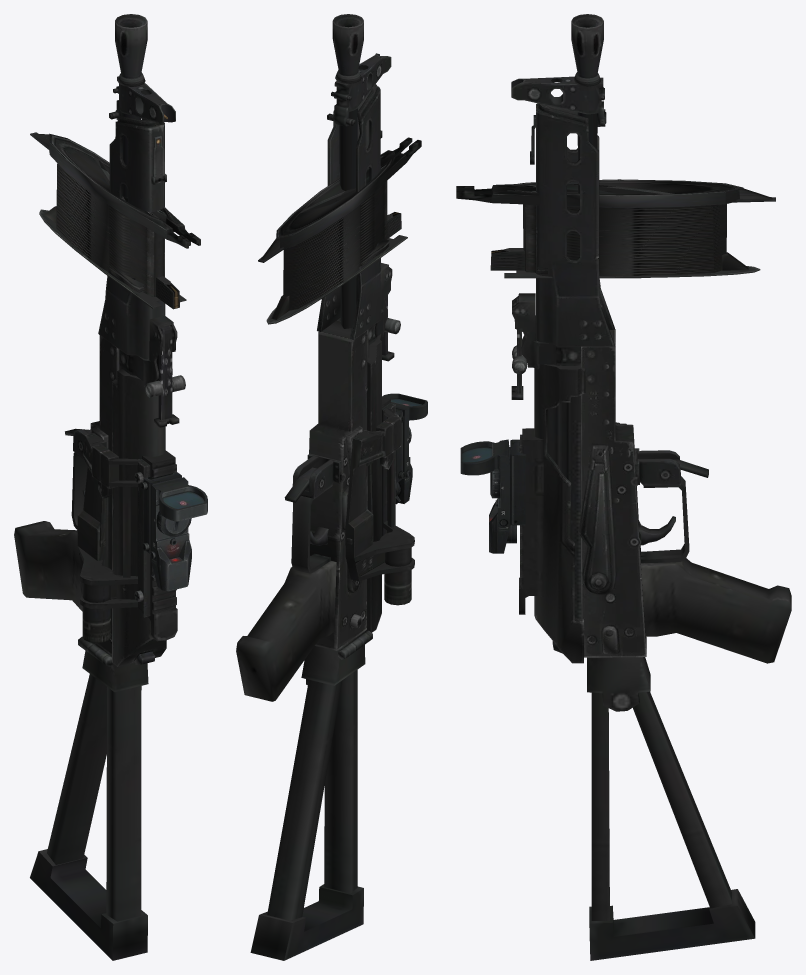
3 renders of one model, left to right at view 1: azimuth 30°, elevation 25°; view 2: azimuth 150°, elevation 25°; view 3: azimuth 270°, elevation 25°, orthographic. The views are drawn at different scales.
Parts seen in each view (by area): view 1: PP19-BIZON, Model_Magazine, Dotesight; view 2: PP19-BIZON, Model_Magazine, Dotesight; view 3: PP19-BIZON, Model_Magazine, Dotesight.
Part boxes in pixels (left/top/right/bottom): PP19-BIZON: left=14, top=14, right=185, bottom=960; Model_Magazine: left=30, top=132, right=200, bottom=309; Dotesight: left=140, top=472, right=207, bottom=591; PP19-BIZON: left=236, top=14, right=414, bottom=960; Model_Magazine: left=258, top=137, right=421, bottom=324; Dotesight: left=382, top=393, right=427, bottom=504; PP19-BIZON: left=511, top=14, right=791, bottom=960; Model_Magazine: left=456, top=179, right=775, bottom=278; Dotesight: left=460, top=439, right=525, bottom=553.
Size of the model in its own units: 0.0678 by 0.7368 by 0.2405.
Materials: 2 (2 with a texture image).
